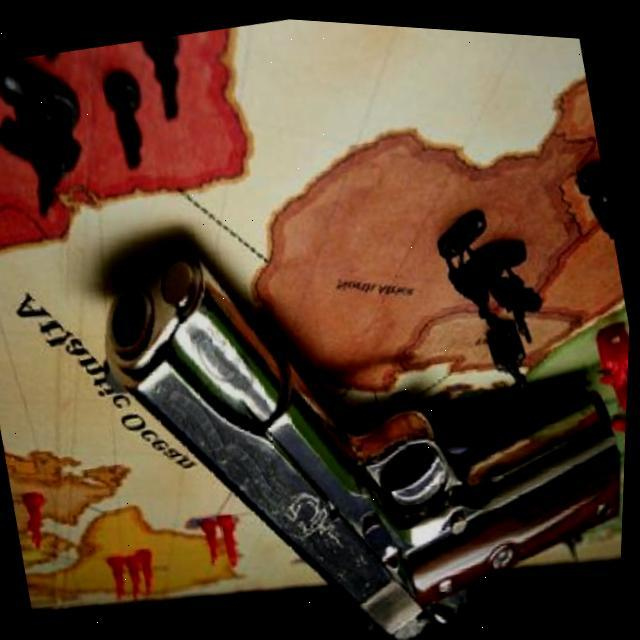gun: (79, 155, 636, 640)
